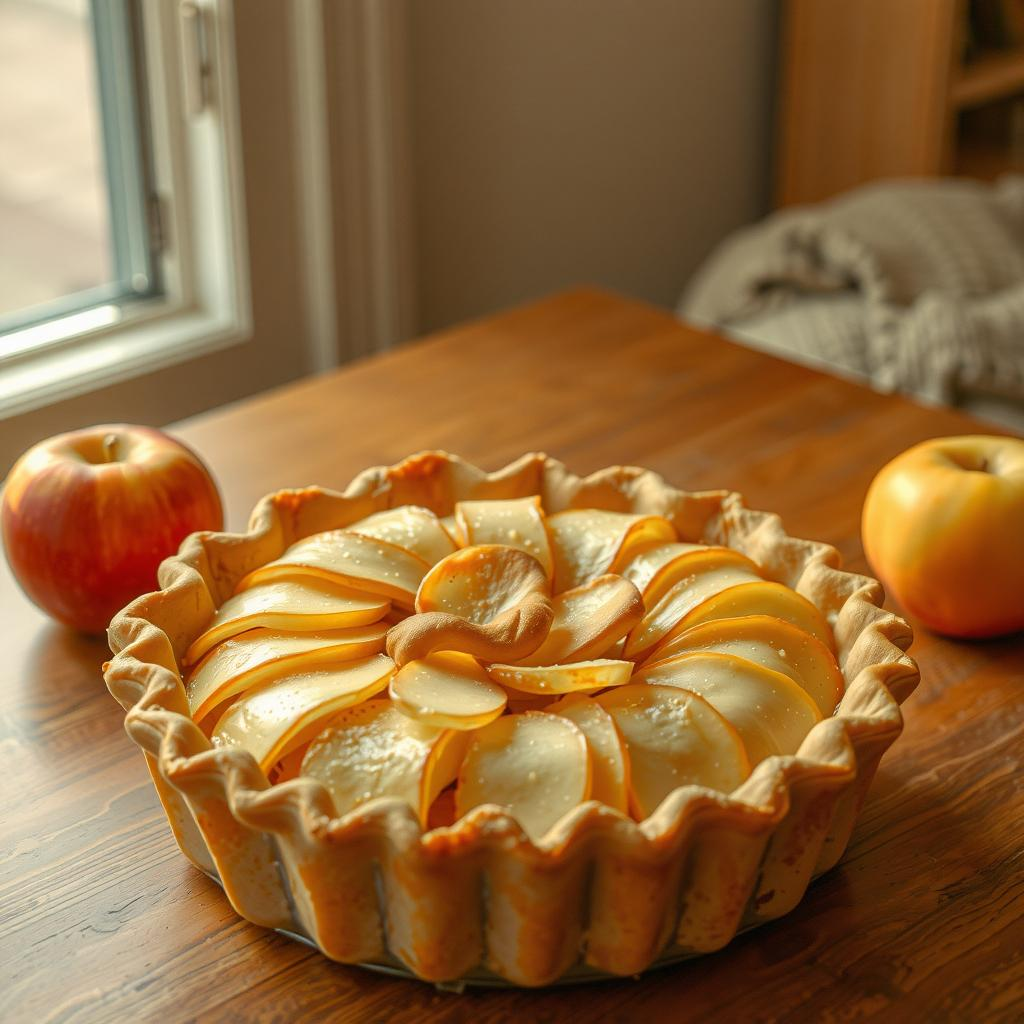pie: (96, 440, 934, 994)
